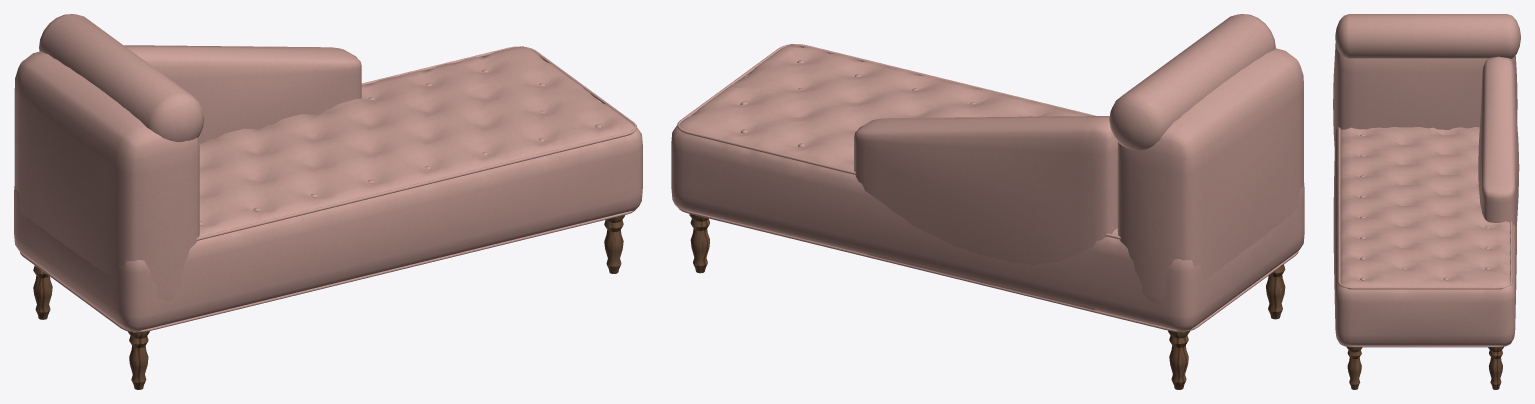
File: chaise_dormitorio_rosa.glb
3 views of the same model, side by side, from view 1: azimuth 30°, elevation 25°; view 2: azimuth 150°, elevation 25°; view 3: azimuth 270°, elevation 25° (orthographic). The views are drawn at different scales.
Visible parts, largest first — view 1: chaise_dormitorio_rosa; view 2: chaise_dormitorio_rosa; view 3: chaise_dormitorio_rosa.
Boxes of the visible parts, x1,y1,x2,y2 form: chaise_dormitorio_rosa: [14, 14, 642, 389]; chaise_dormitorio_rosa: [671, 14, 1304, 389]; chaise_dormitorio_rosa: [1333, 14, 1520, 389].
Size of the model in its own units: 1.62 by 0.8499 by 0.6781.
2 materials, 2 textured.
